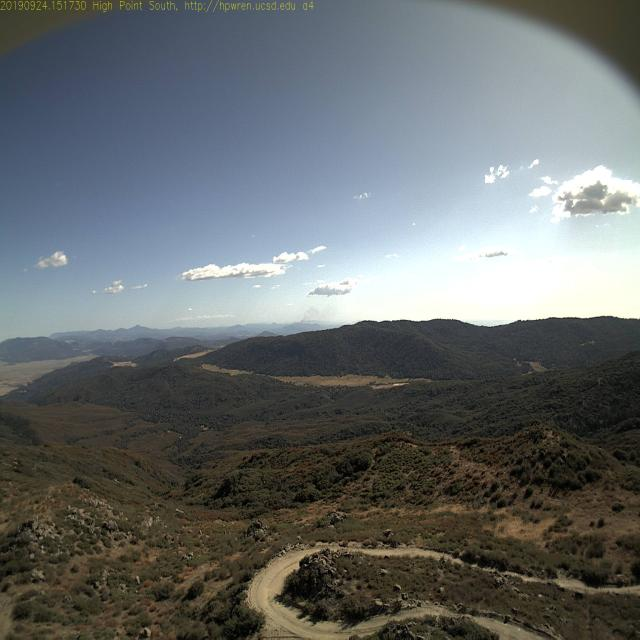smoke: (297, 304, 317, 324)
